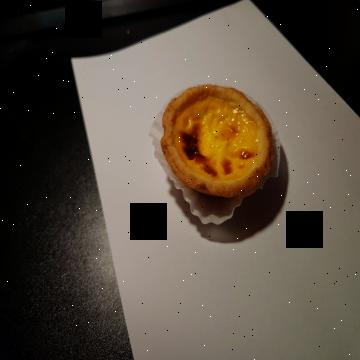EggTart: (161, 84, 275, 198)
